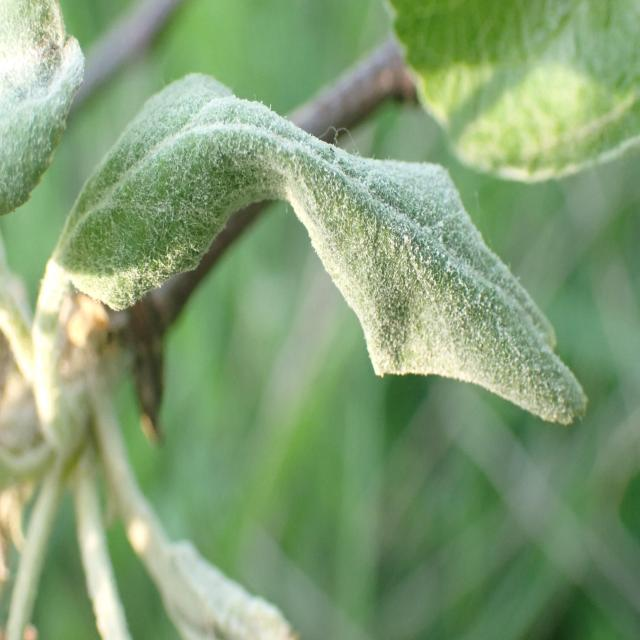Powdery_mildew: (68, 65, 594, 439), (0, 0, 89, 230)
